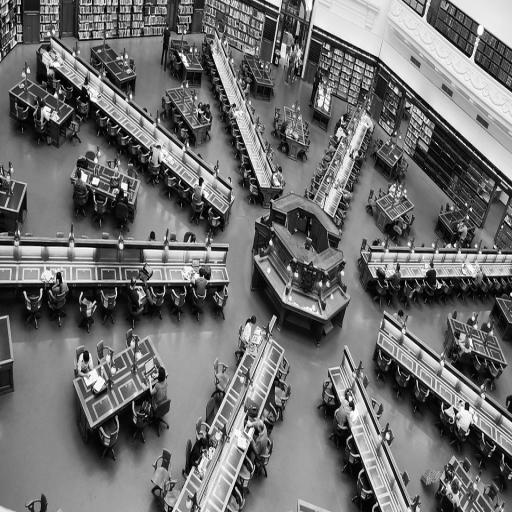empty_seat: (151, 449, 177, 509), (97, 415, 119, 461), (131, 399, 151, 445), (148, 396, 170, 436), (354, 468, 374, 510), (22, 289, 42, 330), (78, 290, 96, 332), (145, 283, 165, 320), (342, 435, 360, 476), (317, 379, 336, 417), (493, 454, 512, 491), (275, 378, 291, 420), (476, 433, 495, 468), (238, 456, 254, 492), (392, 366, 410, 398), (413, 380, 430, 413), (170, 286, 186, 321), (100, 288, 116, 323), (96, 339, 113, 369), (214, 286, 228, 318), (376, 349, 390, 381), (235, 134, 248, 167), (25, 493, 48, 511), (228, 486, 244, 511), (178, 180, 190, 209), (106, 119, 118, 147), (164, 171, 176, 199), (137, 147, 149, 174), (208, 208, 220, 235), (96, 110, 108, 136), (128, 138, 140, 162), (278, 356, 290, 380), (403, 282, 414, 308), (412, 280, 424, 303), (239, 164, 250, 188), (220, 95, 230, 121), (248, 178, 258, 203), (442, 280, 452, 304), (118, 132, 128, 154), (239, 153, 248, 168), (126, 329, 132, 348), (232, 124, 238, 138), (232, 140, 235, 146)
occupied_seat: (245, 417, 272, 478), (180, 424, 209, 479), (455, 394, 477, 450), (234, 313, 258, 362), (50, 270, 69, 328), (148, 365, 168, 417), (30, 96, 51, 144), (334, 388, 354, 436), (73, 172, 90, 218), (190, 176, 206, 224), (441, 475, 461, 509), (192, 262, 208, 304), (127, 276, 144, 314), (115, 185, 130, 225), (456, 334, 473, 366), (76, 348, 94, 378), (149, 140, 162, 169)
